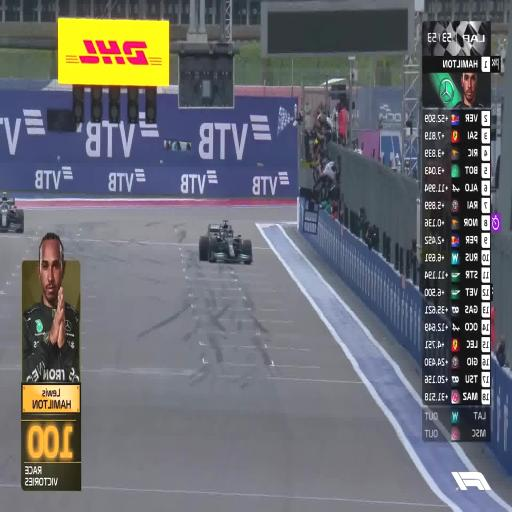f1_car: (199, 220, 253, 263), (0, 192, 24, 232)
